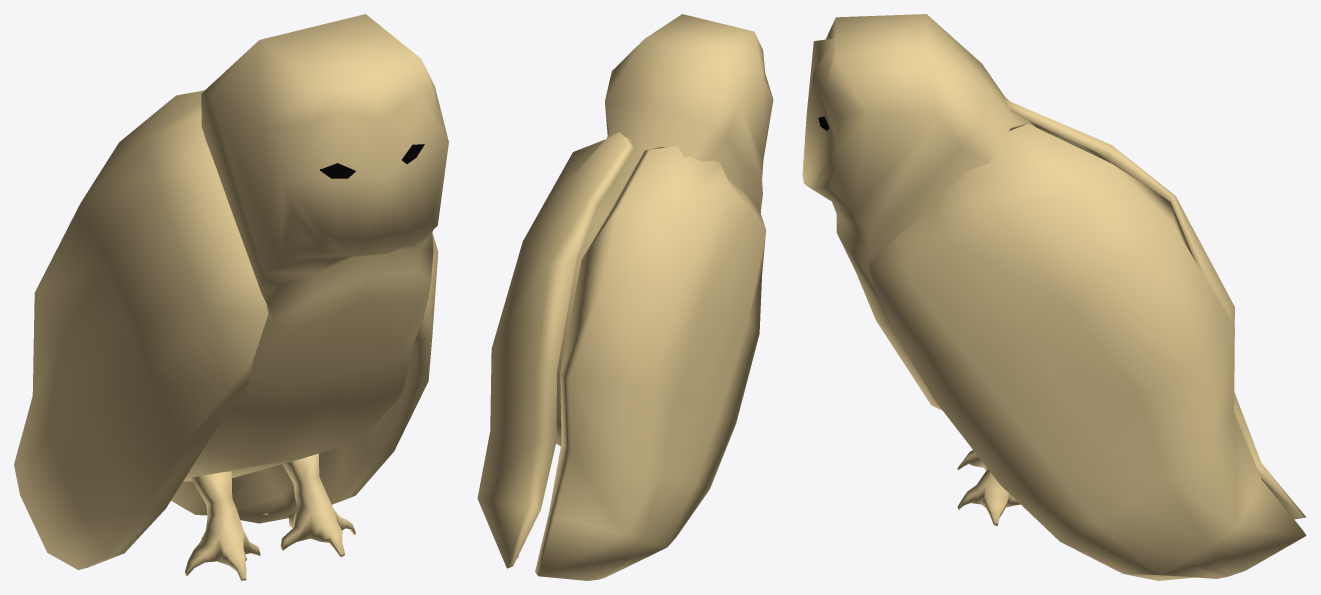
Rendered from Owl.fbx.
3 views of the same model, side by side, from view 1: azimuth 30°, elevation 25°; view 2: azimuth 150°, elevation 25°; view 3: azimuth 270°, elevation 25° (orthographic). The views are drawn at different scales.
Visible parts, largest first — view 1: Cube; view 2: Cube; view 3: Cube.
Boxes of the visible parts, x1,y1,x2,y2 form: Cube: [14, 14, 448, 580]; Cube: [477, 14, 773, 580]; Cube: [802, 14, 1306, 580].
Bounding box in the file's own units: 183 × 423 × 374.
